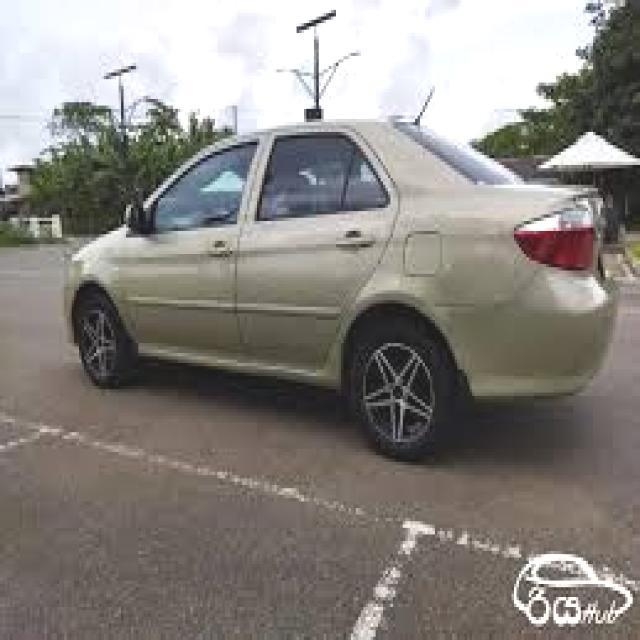ToyotaVios: (63, 90, 619, 462)
